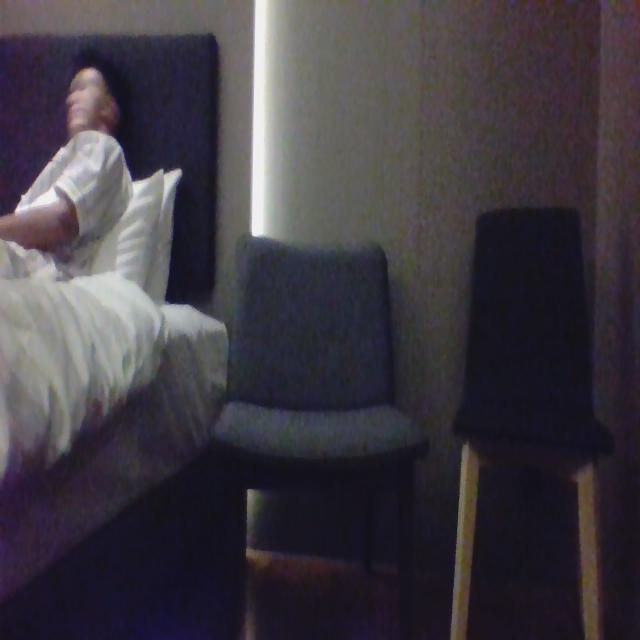empty: (227, 230, 398, 425), (462, 212, 594, 460)
